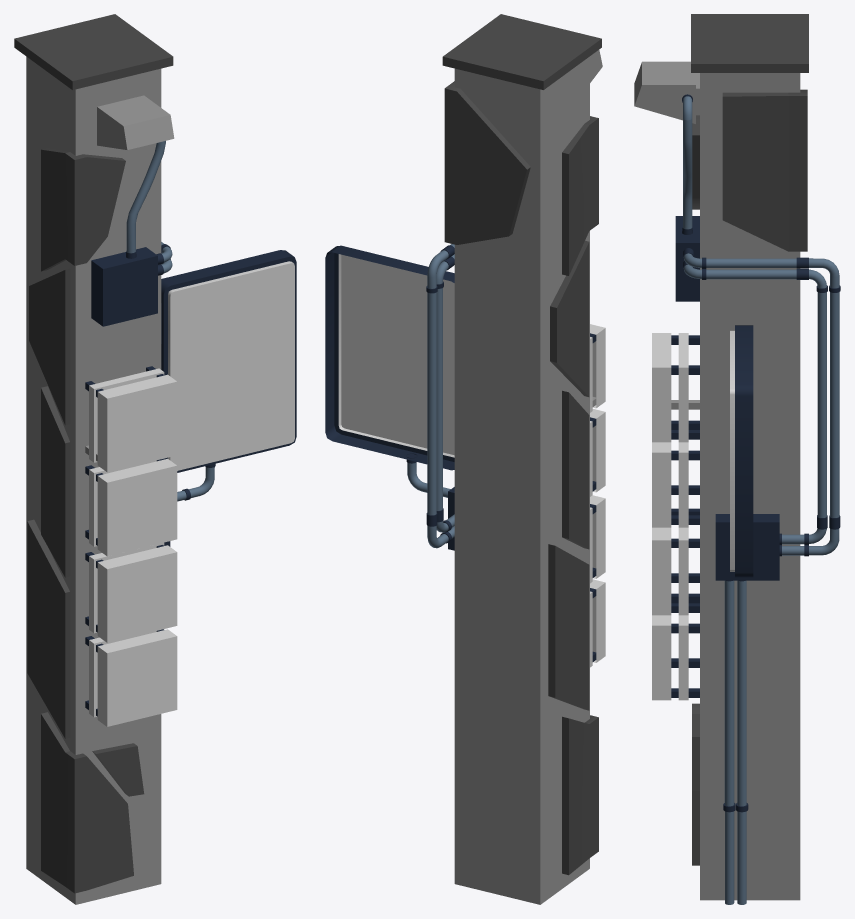
The model's file is Blockout_Advertising_02.FBX.
The picture shows the model from 3 angles, left to right: view 1: azimuth 30°, elevation 25°; view 2: azimuth 150°, elevation 25°; view 3: azimuth 270°, elevation 25°; orthographic projection.
Visible parts, largest first — view 1: Blockout_Advertising_02; view 2: Blockout_Advertising_02; view 3: Blockout_Advertising_02.
Part boxes in pixels (x1,y1,x2,y2): Blockout_Advertising_02: [14, 14, 296, 904]; Blockout_Advertising_02: [325, 14, 605, 904]; Blockout_Advertising_02: [634, 14, 840, 904].
Size of the model in its own units: 729 by 2348 by 522.
